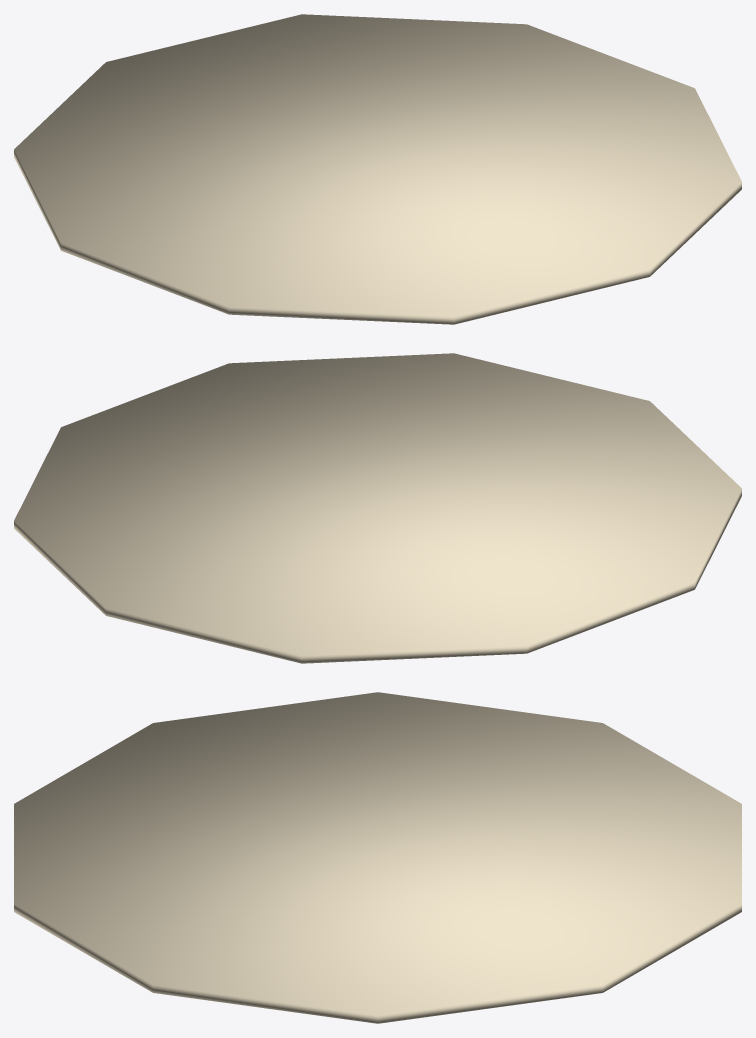
File: prop-drumhead-blank.fbx
3 views of the same model, one above another, from view 1: azimuth 30°, elevation 25°; view 2: azimuth 150°, elevation 25°; view 3: azimuth 270°, elevation 25° (orthographic). The views are drawn at different scales.
Visible parts, largest first — view 1: prop-drumhead-blank; view 2: prop-drumhead-blank; view 3: prop-drumhead-blank.
Part boxes in pixels (x1=…): prop-drumhead-blank: x1=14, y1=14, x2=741, y2=324; prop-drumhead-blank: x1=14, y1=353, x2=741, y2=663; prop-drumhead-blank: x1=14, y1=692, x2=741, y2=1023.
Size of the model in its own units: 34 by 0.4 by 32.34.
